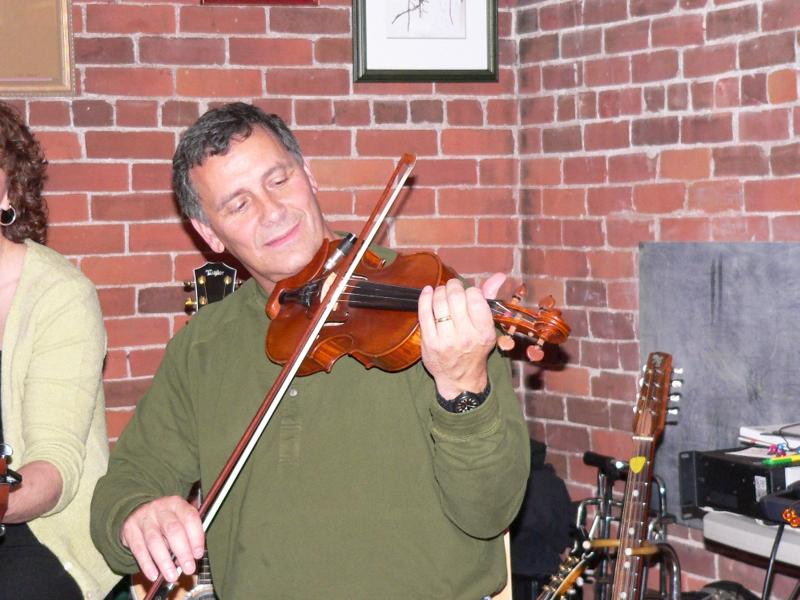person: (90, 105, 532, 600)
